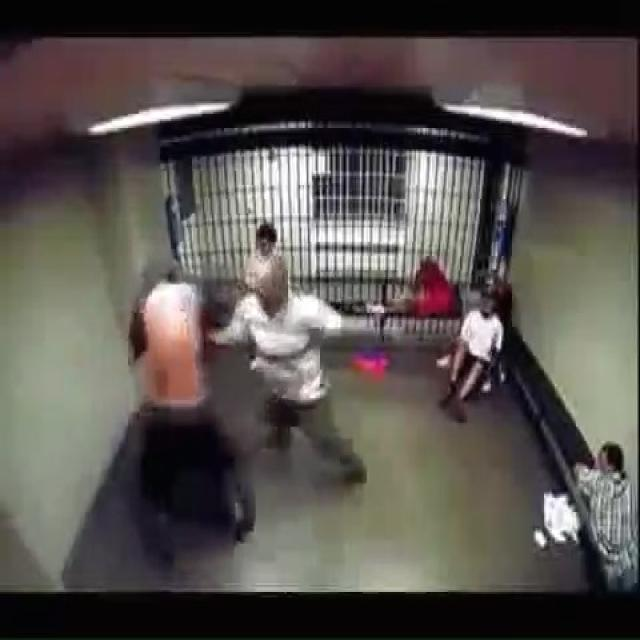fight: (112, 230, 366, 544)
